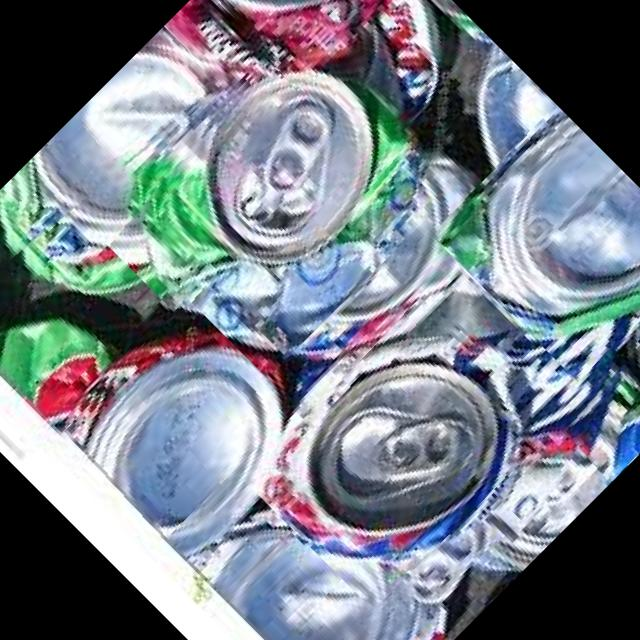Cans: (90, 32, 448, 390), (239, 287, 561, 609), (32, 296, 296, 560), (426, 103, 640, 381), (0, 25, 222, 291), (548, 267, 640, 483), (196, 0, 411, 90), (0, 260, 120, 413)
